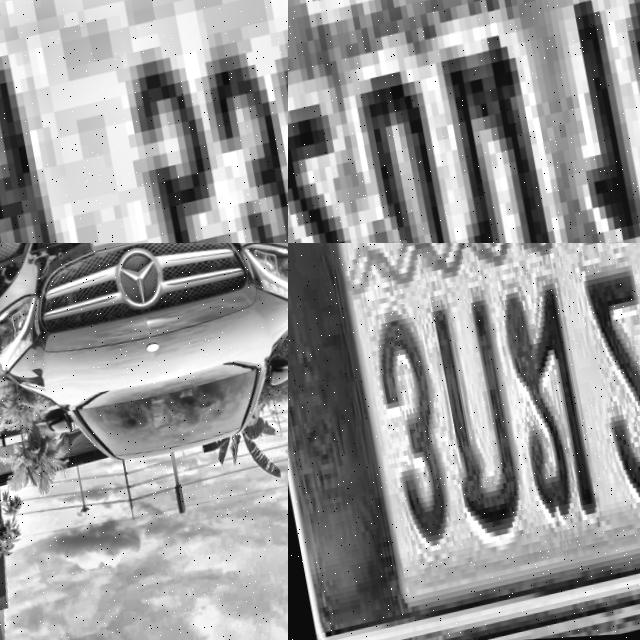license-plate: (288, 243, 640, 640), (288, 0, 640, 243), (0, 0, 288, 243), (81, 243, 173, 259)
